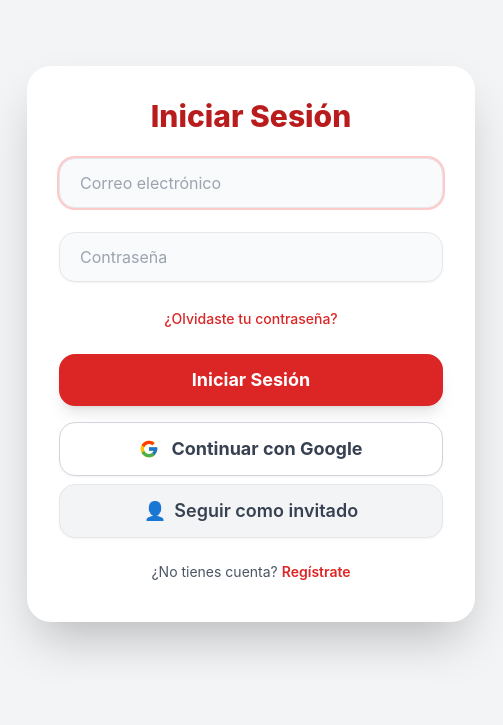
Scenario: Auth Component › switches between login and register modes
Cambiar a registro
Step 1. Click the text "Regístrate" → point(316, 572), box [282, 563, 350, 580]
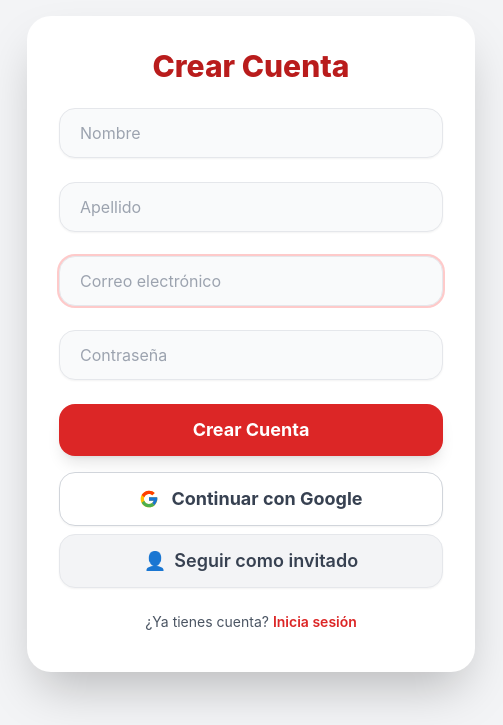
Check: the heading "Crear Cuenta" is shown, box [152, 48, 349, 84]
Check: the field with placeholder "Nombre" is shown, box [59, 108, 443, 158]
Check: the field with placeholder "Apellido" is shown, box [59, 182, 443, 232]
Cambiar de vuelta a login
Step 2. Click the text "Inicia sesión" → point(315, 622), box [273, 613, 357, 630]
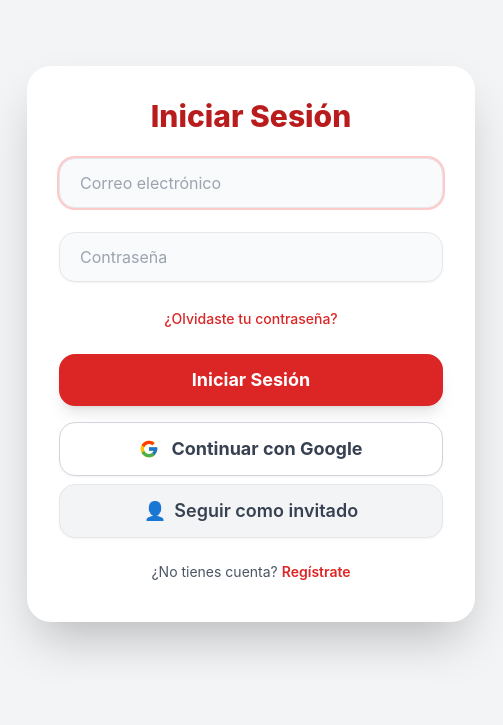
Check: the heading "Iniciar Sesión" is shown, box [151, 98, 351, 134]
Check: the field with placeholder "Nombre" is gone
